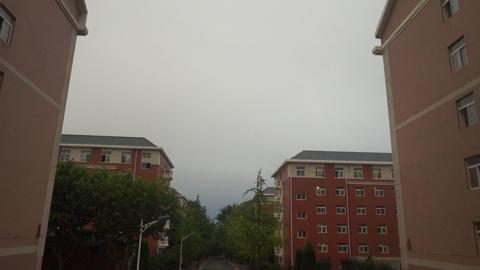UAV: (258, 178, 266, 182)
